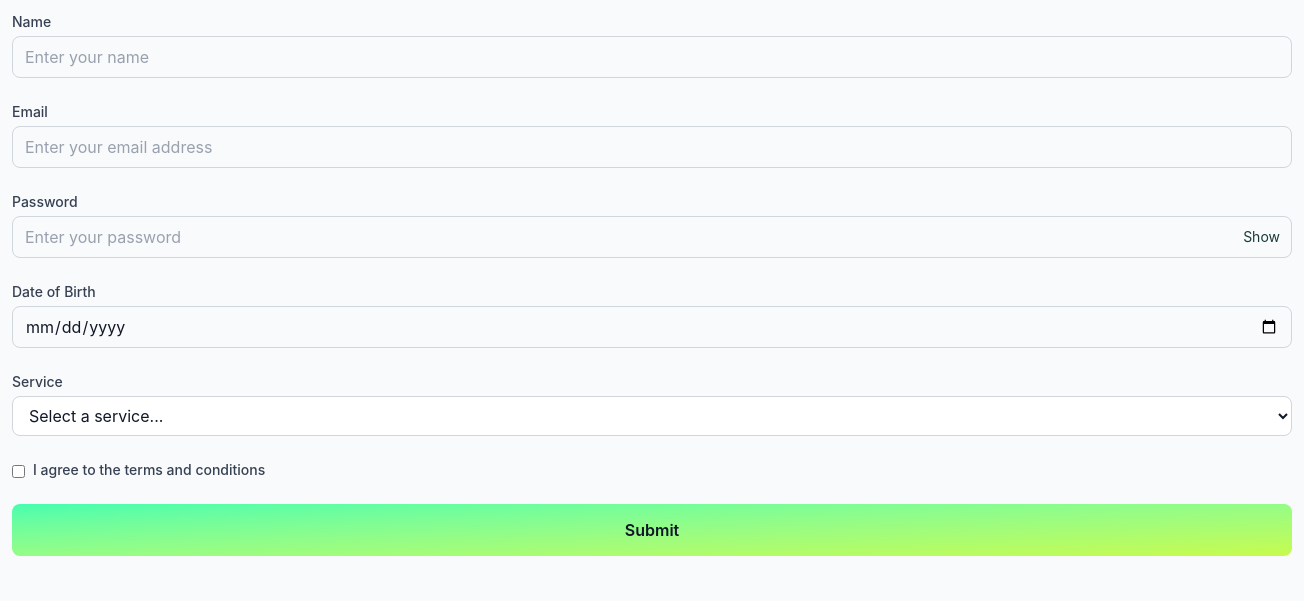
Test case: ServiceForm › shows error when a future date of birth is entered and blurred
The width and height of the screenshot is (1304, 601).
In the date field labelled "Date of Birth": x=652, y=327 [12,306,1292,348], type "2099-01-01"
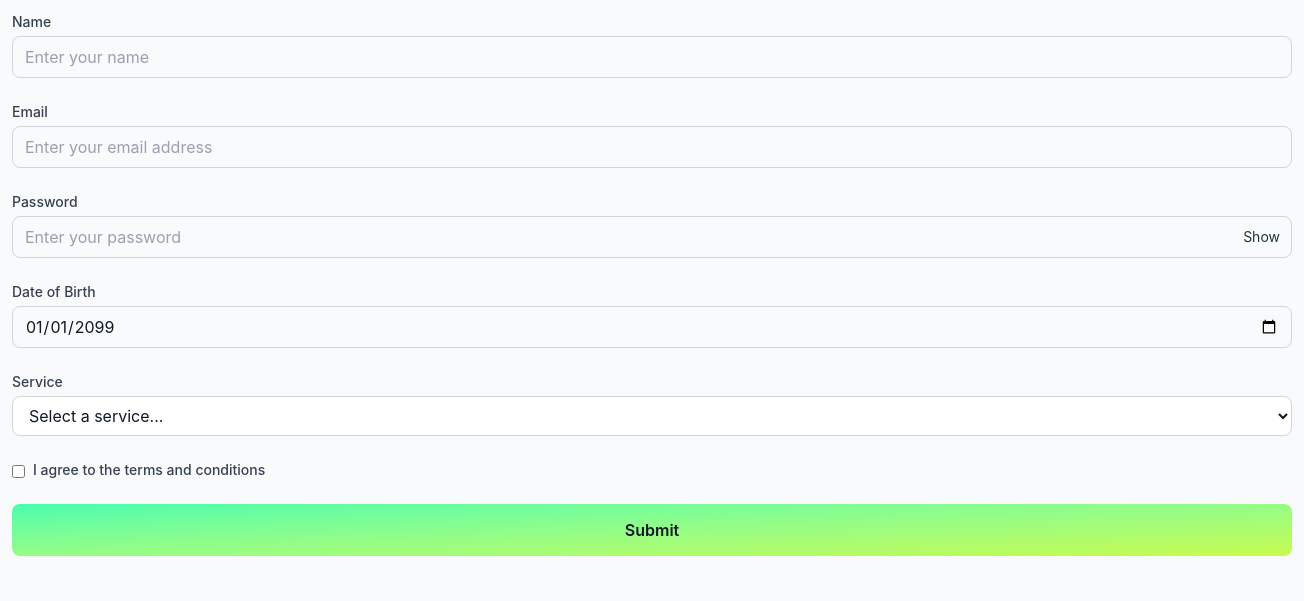
Leave the date field labelled "Date of Birth", box [12,306,1292,348]
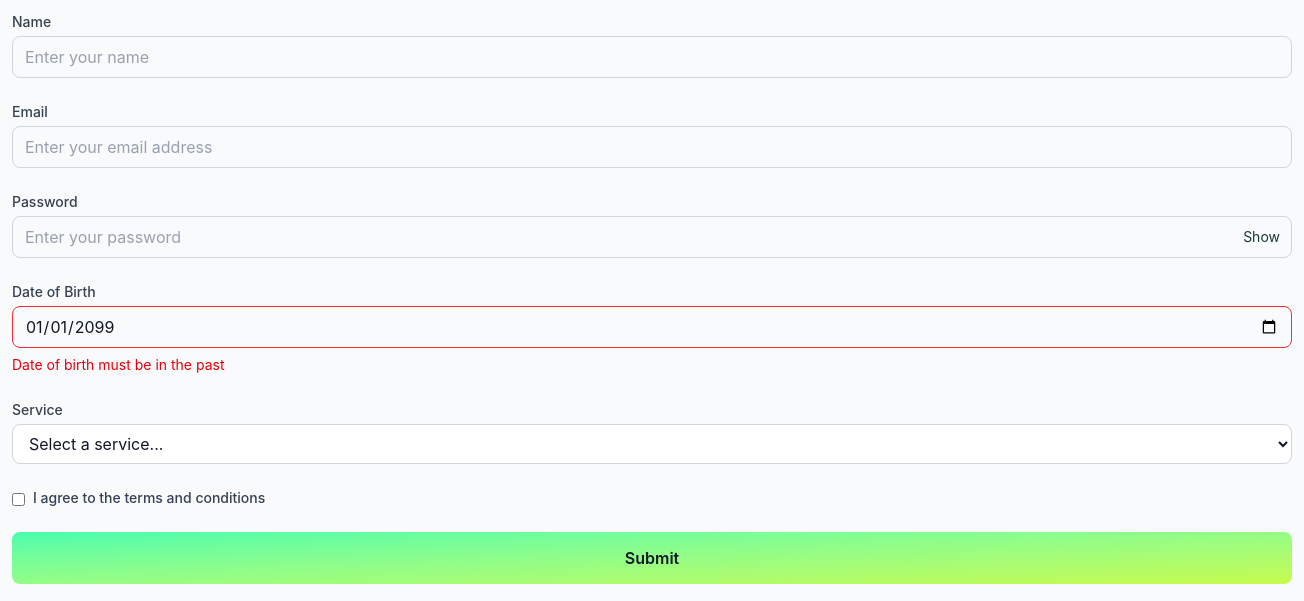
Expected: the message with test id "error" reads "Date of birth must be in the past", [12,356,224,373]
